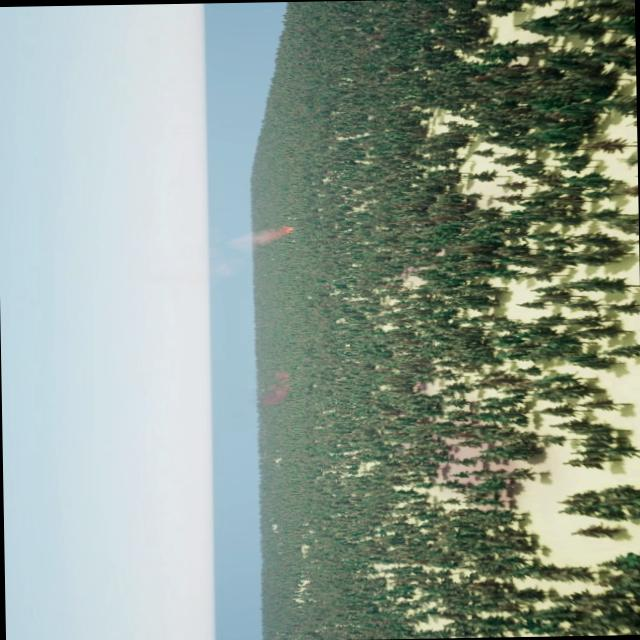smoke: (231, 222, 293, 247), (262, 368, 292, 405)
